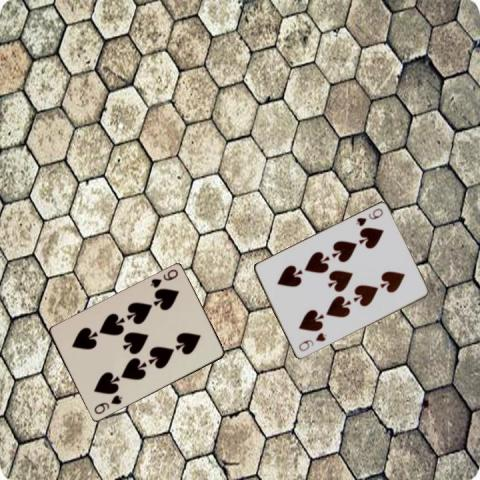9s: (91, 392, 123, 416), (295, 330, 328, 353), (352, 205, 385, 228), (148, 266, 180, 289)
